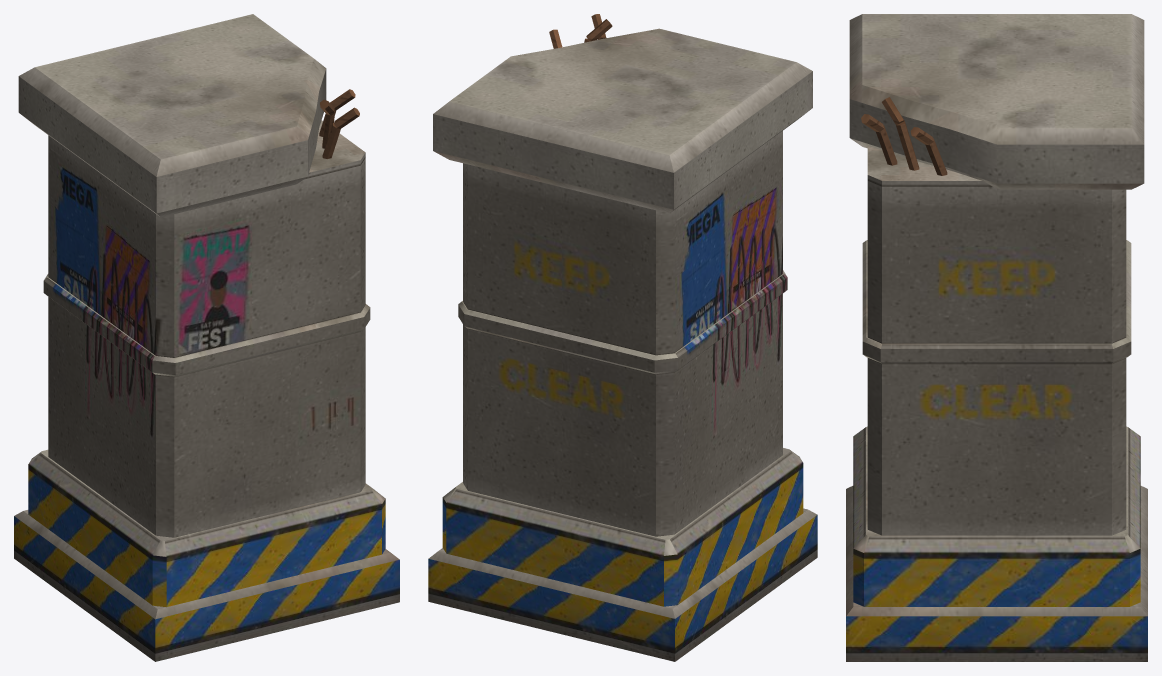
The model's file is prop_pillar_b.glb.
3 renders of one model, left to right at view 1: azimuth 30°, elevation 25°; view 2: azimuth 150°, elevation 25°; view 3: azimuth 270°, elevation 25°, orthographic. The views are drawn at different scales.
Visible parts, largest first — view 1: prop_pillar_b_body; view 2: prop_pillar_b_body; view 3: prop_pillar_b_body.
Boxes of the visible parts, box(x1,y1,x2,y2) form: prop_pillar_b_body: box(14, 14, 399, 661); prop_pillar_b_body: box(428, 14, 817, 661); prop_pillar_b_body: box(846, 14, 1147, 661).
Size of the model in its own units: 0.84 by 1.65 by 0.84.
Materials: 1 (1 with a texture image).
